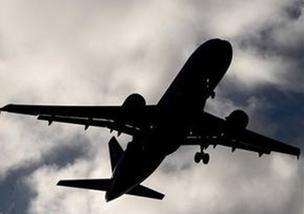airplane: (2, 37, 302, 199)
